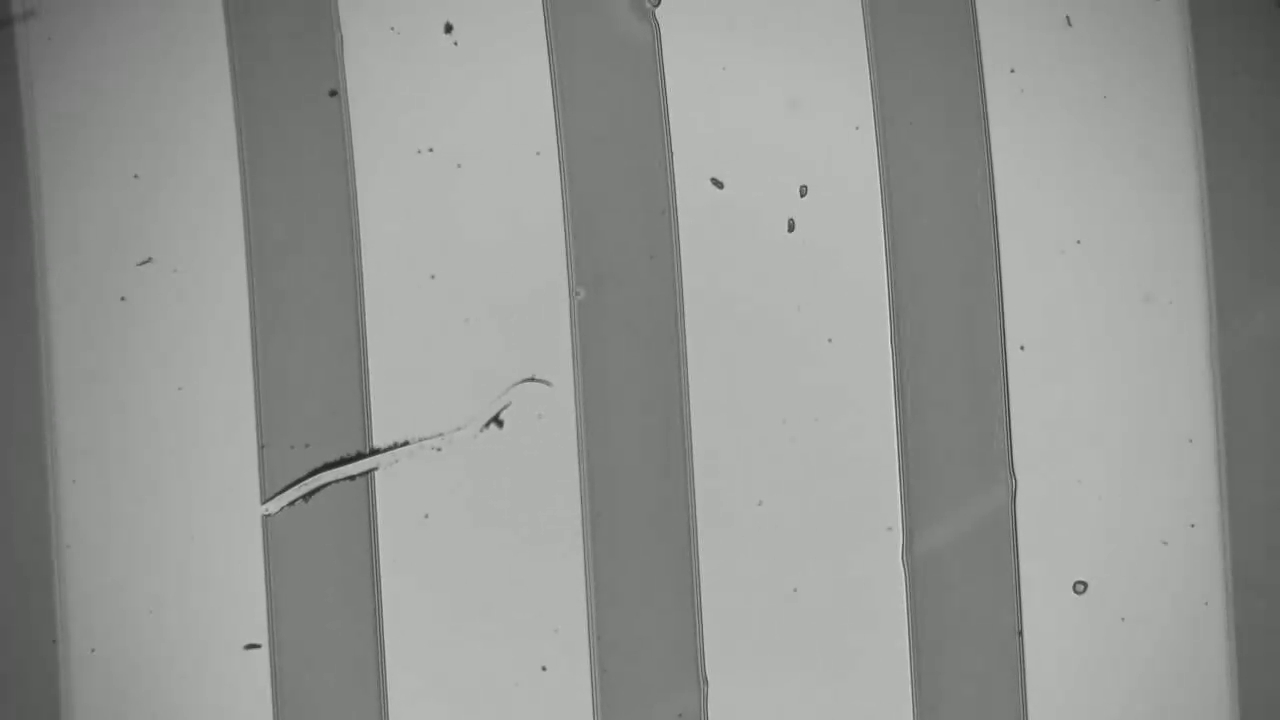Short_circuit: (217, 425, 403, 545)
